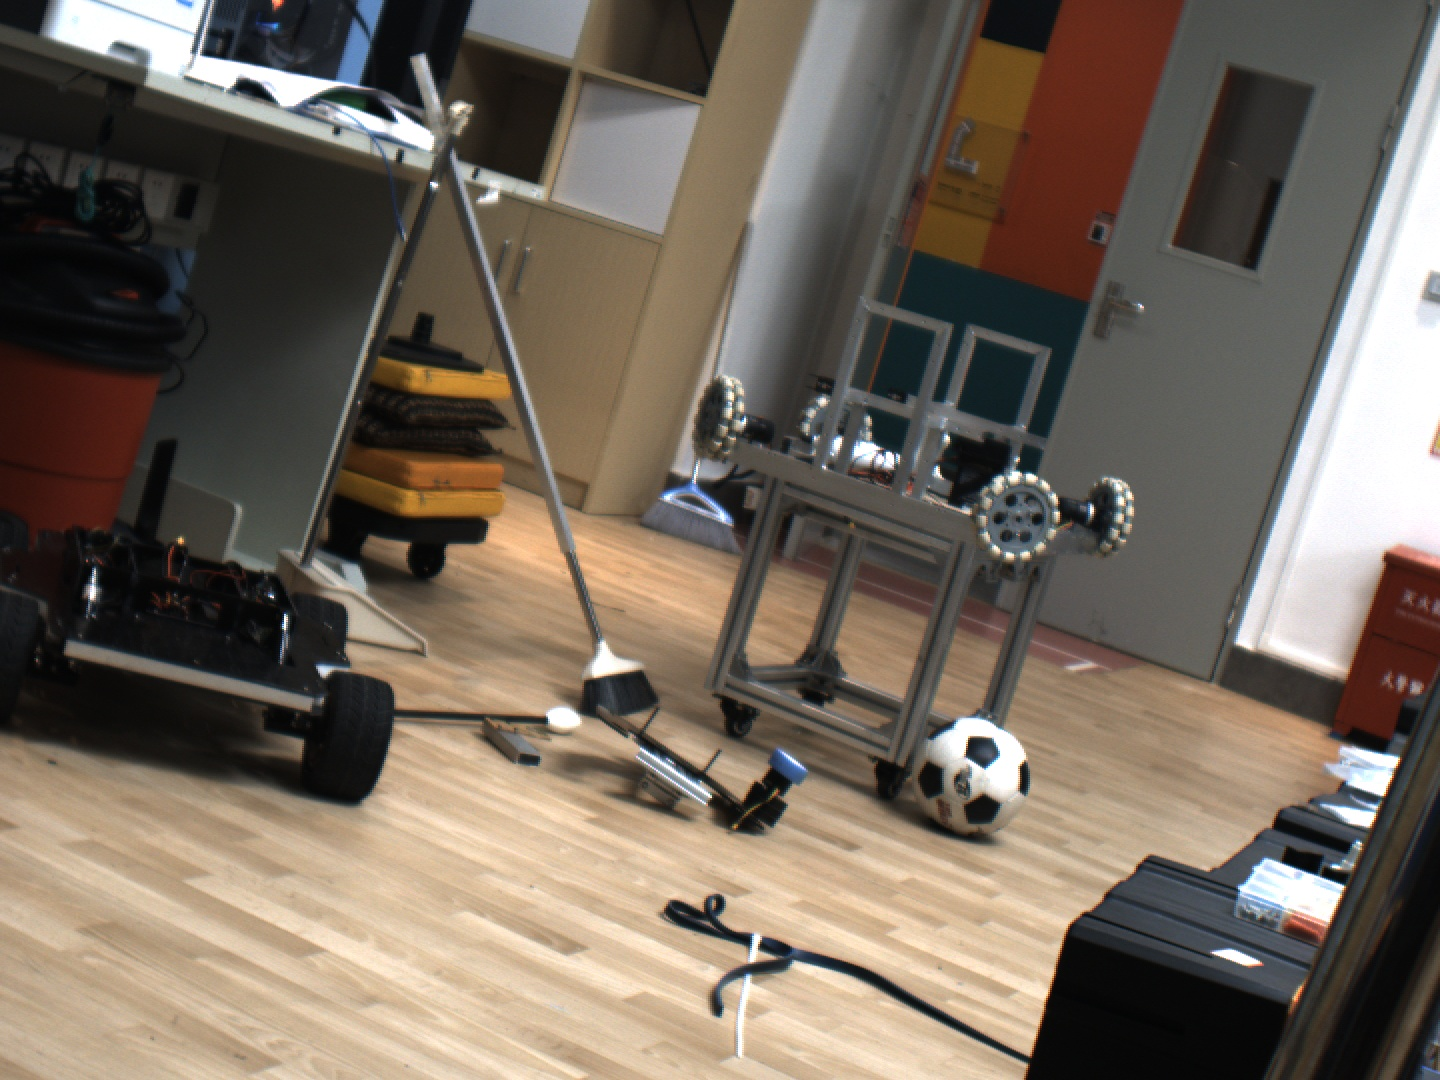ball: (901, 703, 1040, 841)
